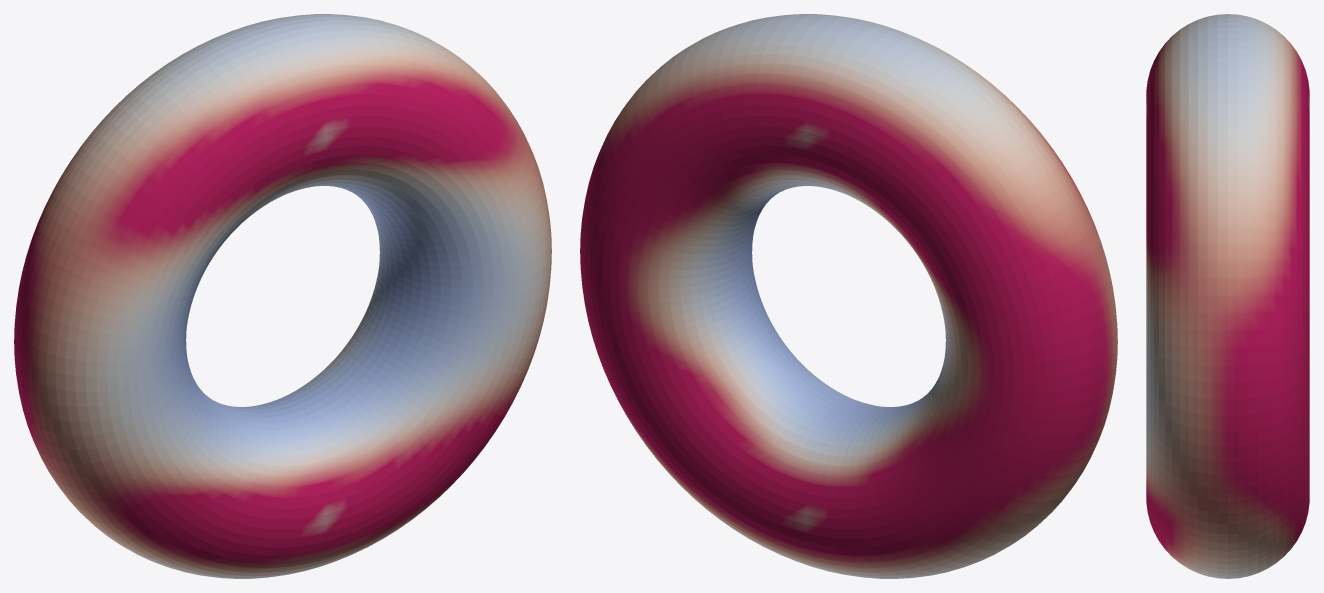
3 renders of one model, left to right at view 1: azimuth 30°, elevation 25°; view 2: azimuth 150°, elevation 25°; view 3: azimuth 270°, elevation 25°, orthographic. The views are drawn at different scales.
Visible parts, largest first — view 1: world; view 2: world; view 3: world.
Part boxes in pixels (x1,y1,x2,y2): world: [14, 14, 551, 578]; world: [580, 14, 1117, 578]; world: [1146, 14, 1309, 578].
Size of the model in its own units: 25.33 by 25.33 by 7.32.
